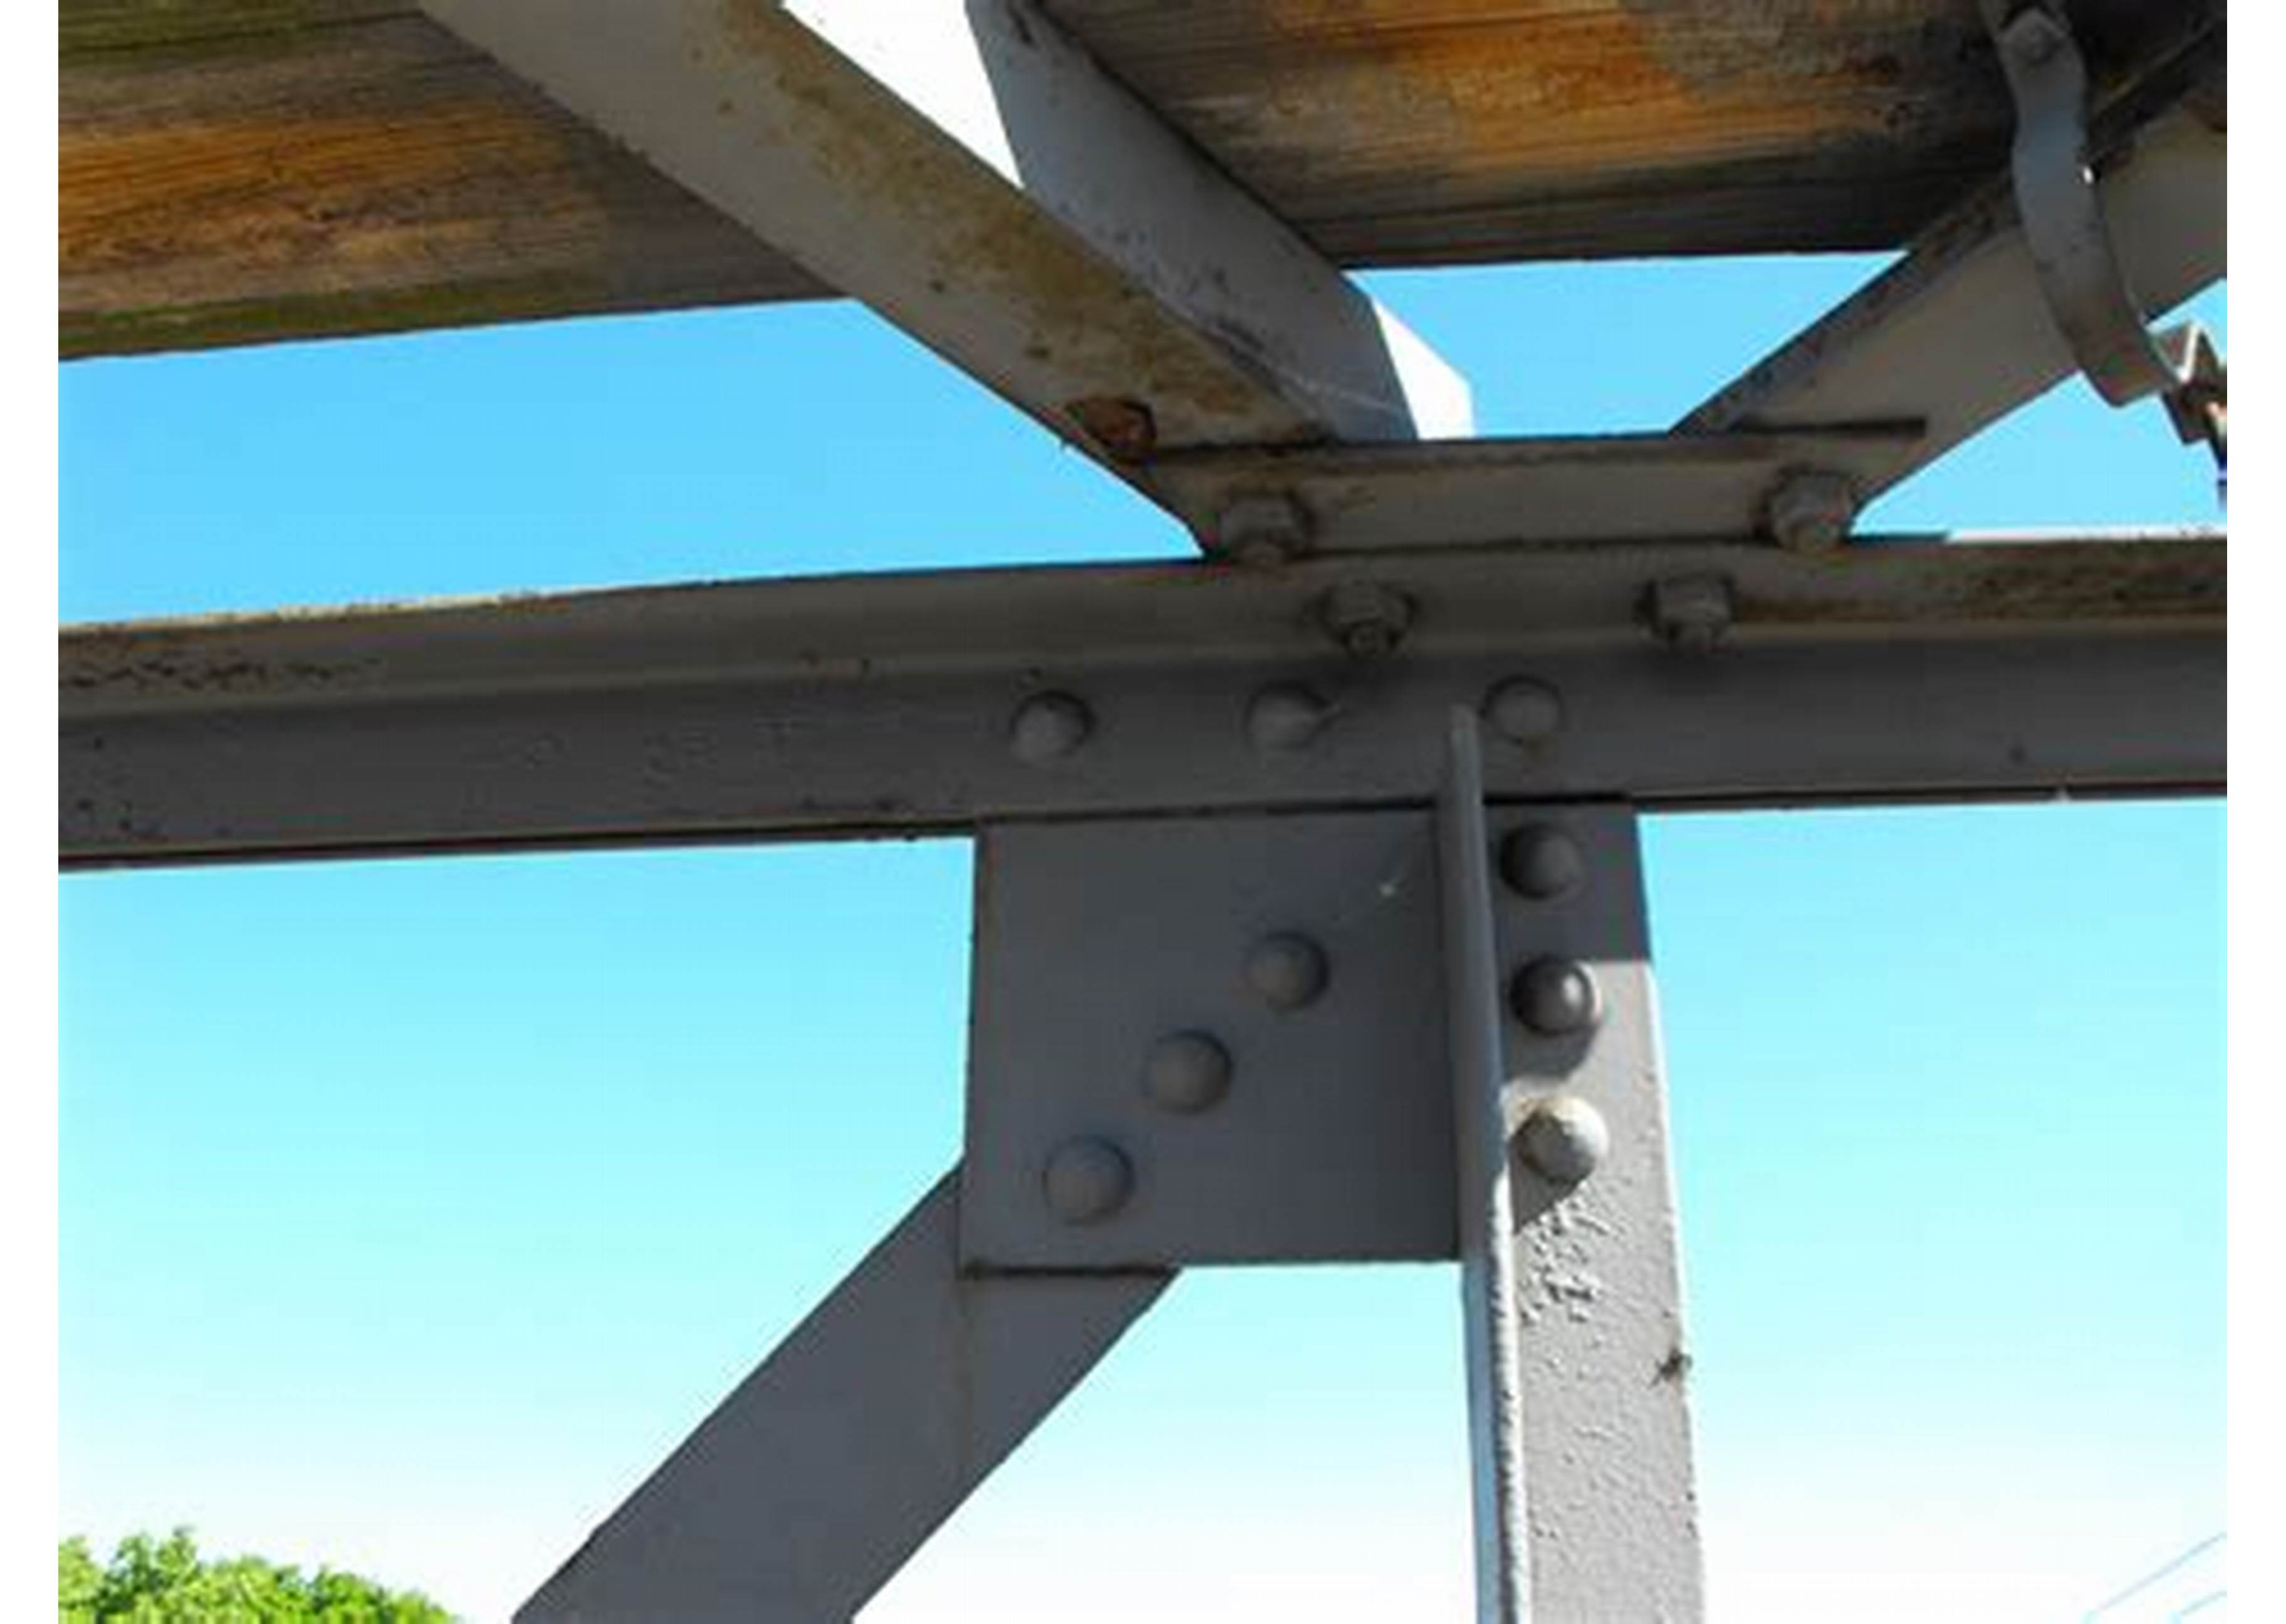vague: (1311, 578, 1420, 668), (1638, 566, 1741, 656), (1211, 483, 1311, 575), (1762, 468, 1864, 557)
